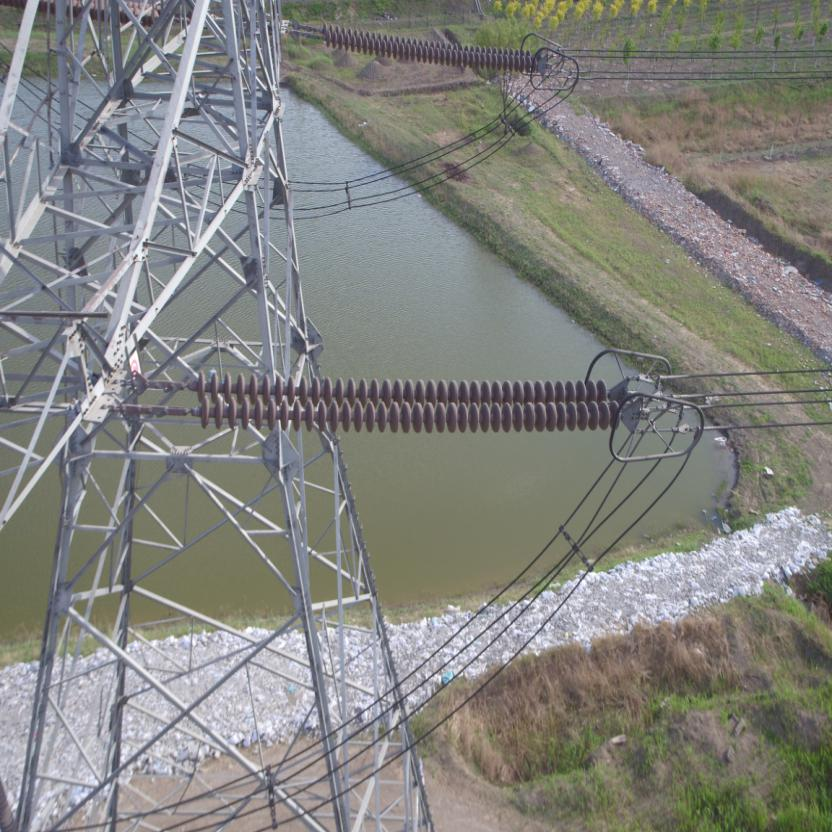insulator: (159, 366, 629, 435), (305, 18, 542, 75)
